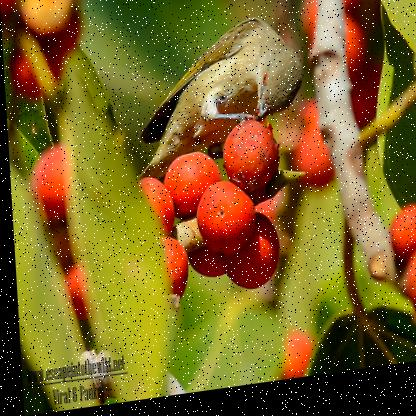Burung: (123, 17, 308, 202)
